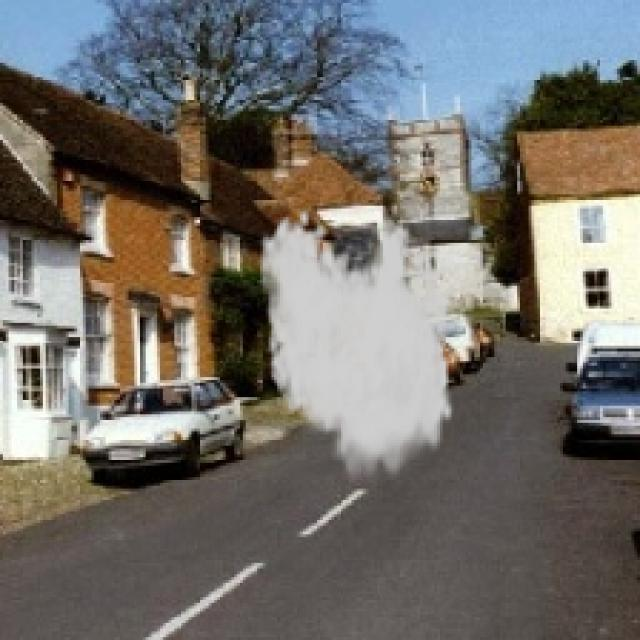smoke: (257, 206, 466, 488)
